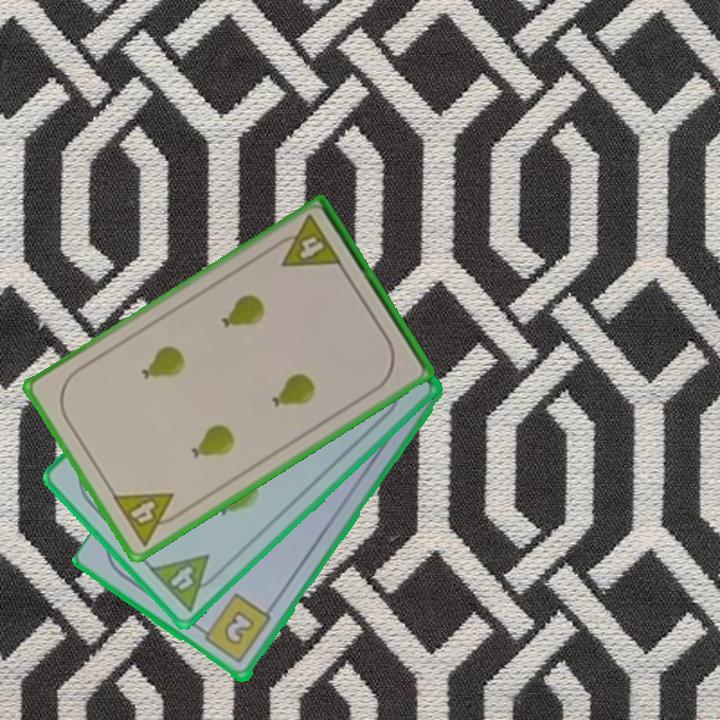2b: (194, 590, 274, 667)
4p: (145, 551, 226, 615), (109, 489, 187, 549), (269, 212, 345, 271)
